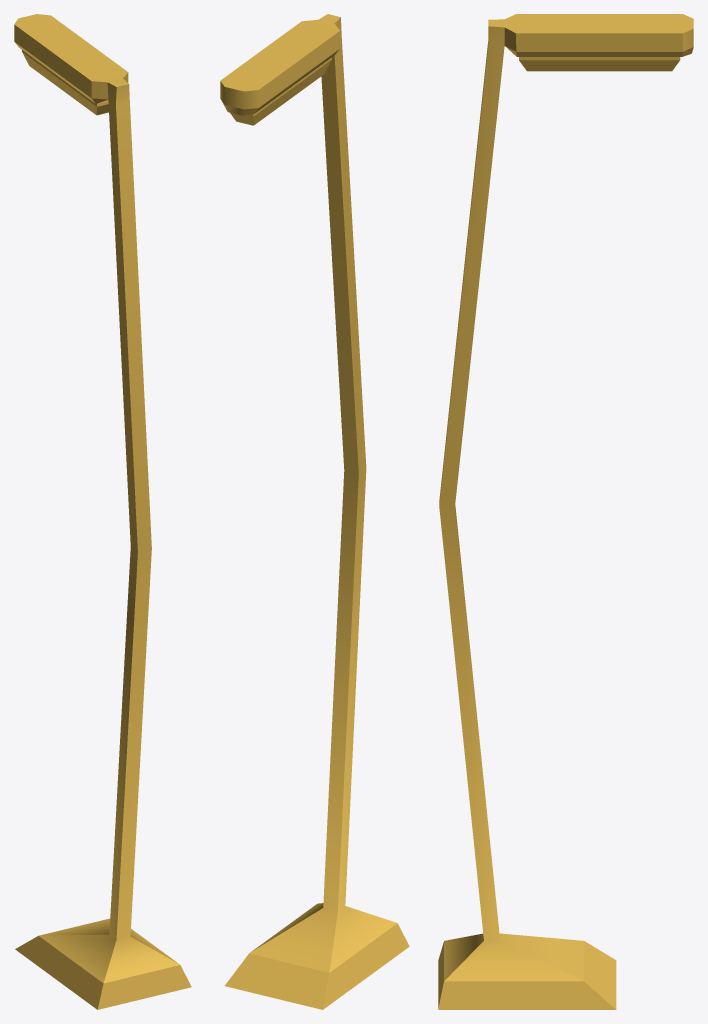
The model's file is Lamp_mesh.fbx.
The picture shows the model from 3 angles, left to right: view 1: azimuth 30°, elevation 25°; view 2: azimuth 150°, elevation 25°; view 3: azimuth 270°, elevation 25°; orthographic projection. The views are drawn at different scales.
Parts seen in each view (by area): view 1: Lamp_mesh; view 2: Lamp_mesh; view 3: Lamp_mesh.
Part boxes in pixels (left/top/right/bottom): Lamp_mesh: left=14, top=14, right=191, bottom=1009; Lamp_mesh: left=220, top=14, right=409, bottom=1009; Lamp_mesh: left=438, top=14, right=693, bottom=1009.
Size of the model in its own units: 59.1 by 536 by 129.
